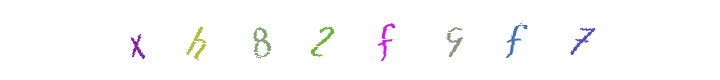2: (296, 0, 376, 80)
7: (508, 0, 588, 80)
8: (282, 0, 362, 80)
9: (333, 0, 413, 80)
F: (320, 0, 400, 80), (345, 0, 425, 80)
H: (157, 0, 237, 80)
X: (97, 0, 177, 80)
